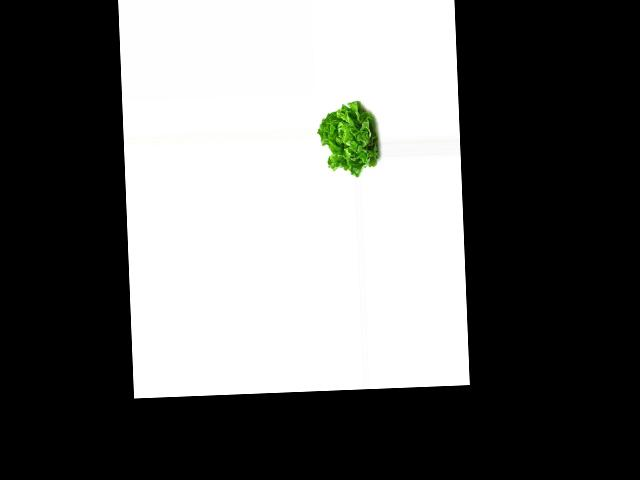lettuce: (316, 101, 381, 177)
